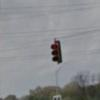traffic lights: (51, 42, 63, 63)
